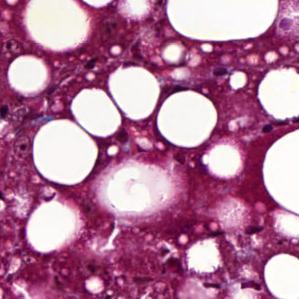steatosis: (31, 117, 98, 186), (158, 90, 219, 148)
